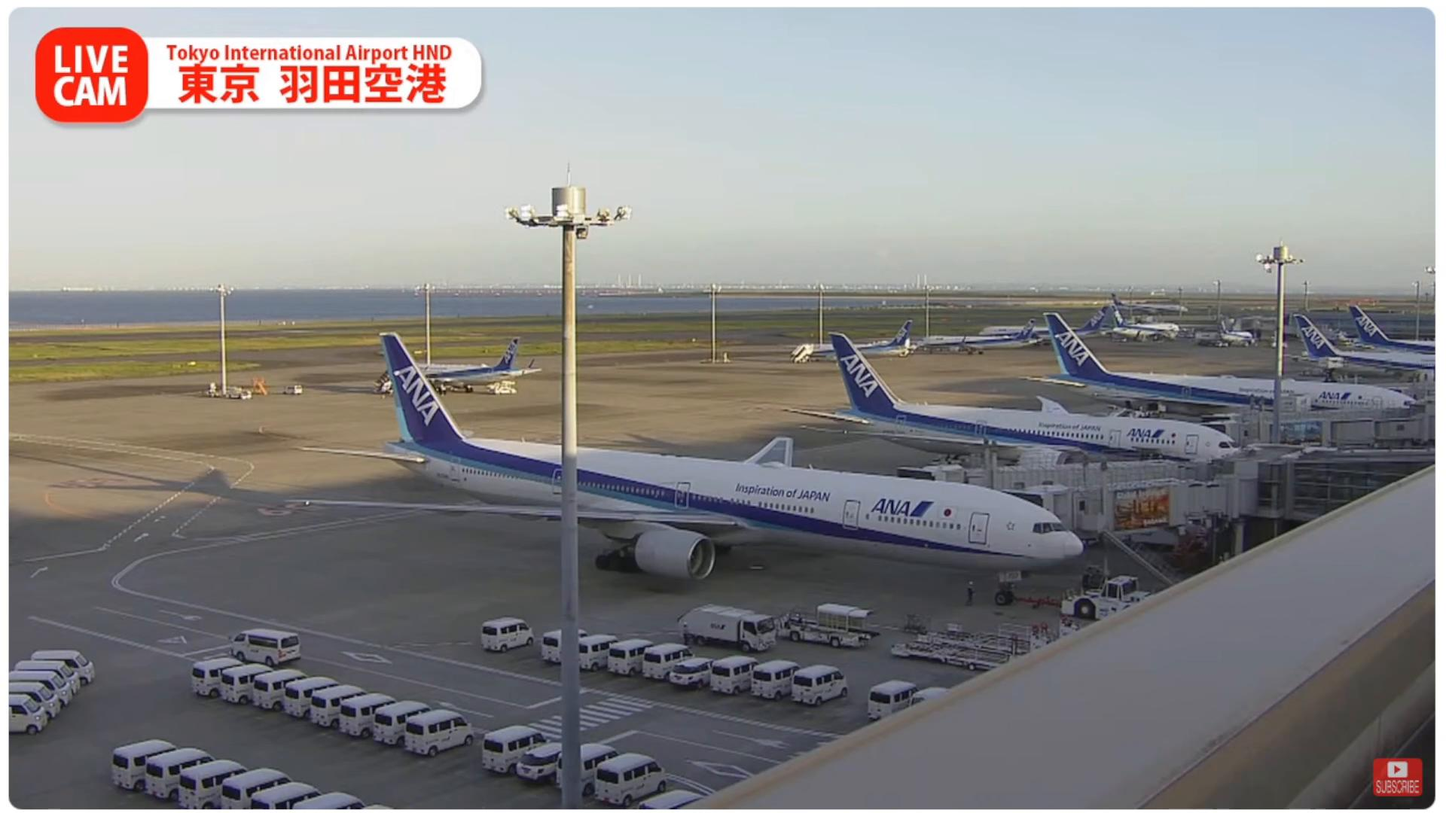APS: (1061, 576, 1155, 621)
Aerobridge: (990, 474, 1217, 523), (903, 458, 1204, 486)
Airplane: (290, 334, 1085, 584)
Baggage truck: (678, 602, 777, 654)
JCPL: (923, 620, 1080, 653), (886, 638, 1018, 670)
Skyloader: (775, 602, 880, 649)
Window: (1253, 443, 1435, 520)
